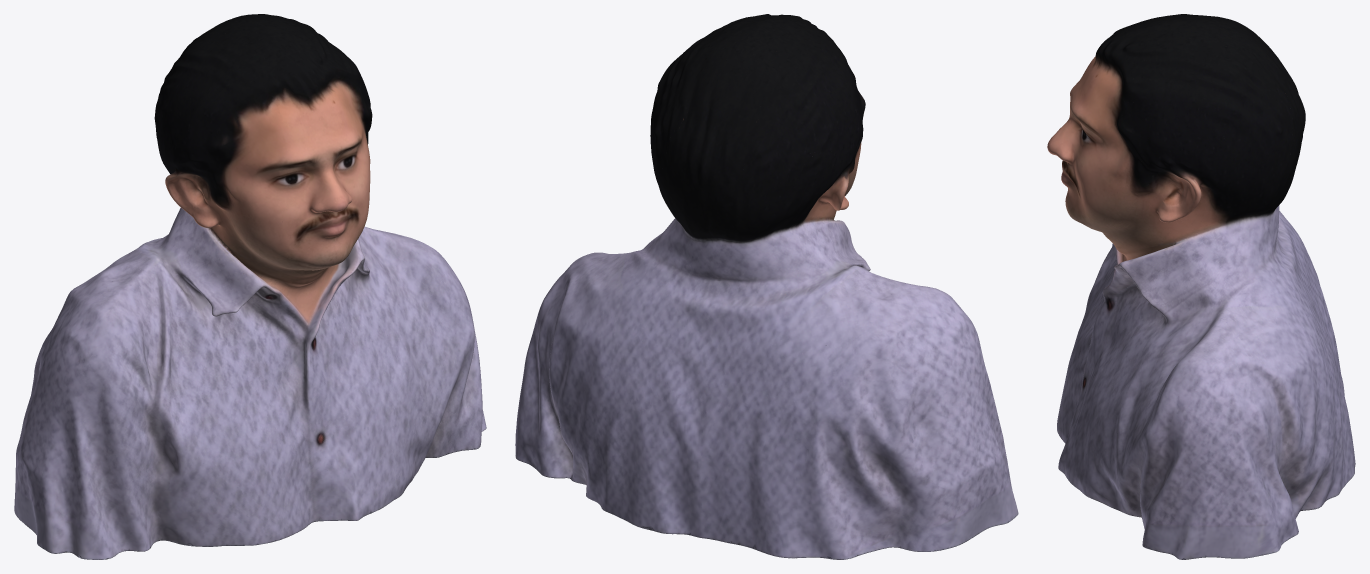
Rendered from avatar.glb.
3 renders of one model, left to right at view 1: azimuth 30°, elevation 25°; view 2: azimuth 150°, elevation 25°; view 3: azimuth 270°, elevation 25°, orthographic. The views are drawn at different scales.
Size of the model in its own units: 1.9 by 1.79 by 1.15.
Materials: 1 (1 with a texture image).
